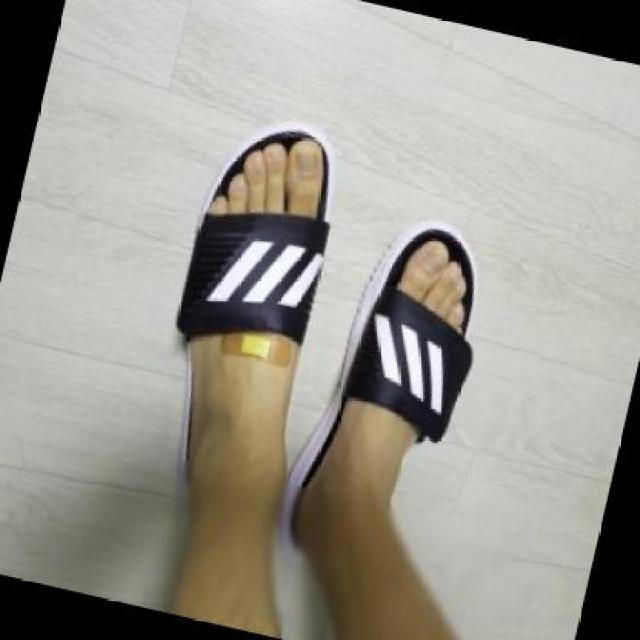Sandals: (166, 117, 361, 557), (301, 221, 516, 616)
